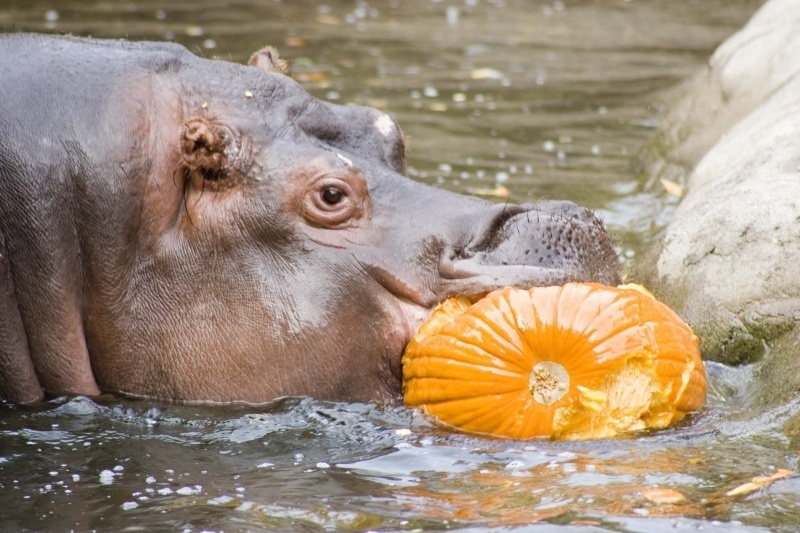hipopotamo: (1, 22, 649, 445)
